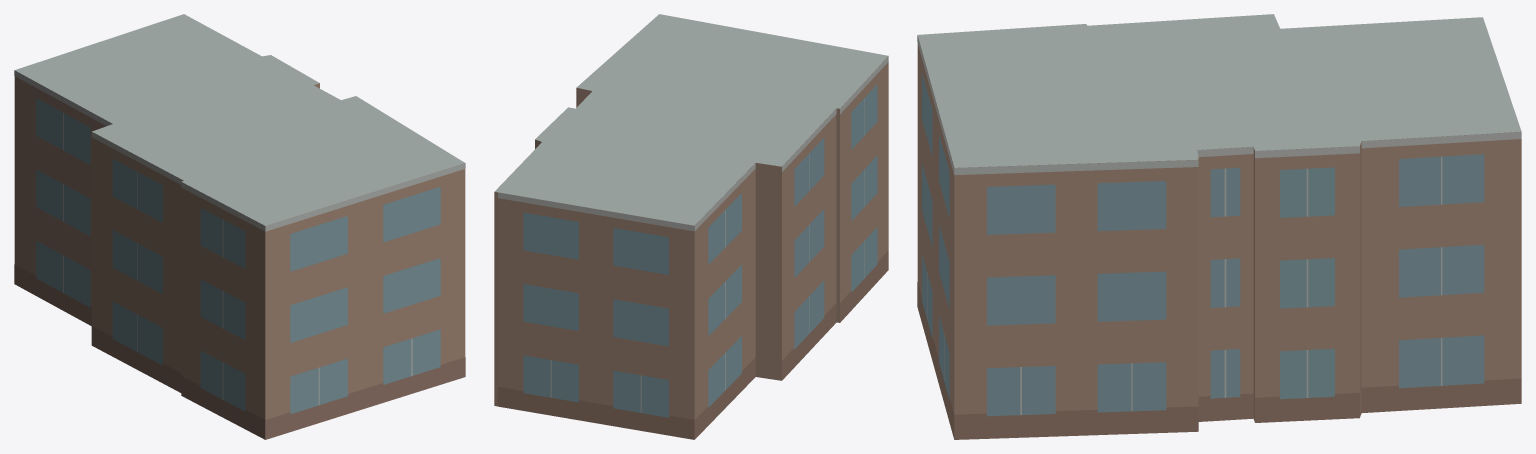
File: survey-upis-32719579.glb
3 renders of one model, left to right at view 1: azimuth 30°, elevation 25°; view 2: azimuth 150°, elevation 25°; view 3: azimuth 270°, elevation 25°, orthographic. The views are drawn at different scales.
Visible parts, largest first — view 1: survey-upis-32719579.tmp; view 2: survey-upis-32719579.tmp; view 3: survey-upis-32719579.tmp.
Boxes of the visible parts, left/top/right/bottom form: survey-upis-32719579.tmp: left=14, top=14, right=465, bottom=439; survey-upis-32719579.tmp: left=494, top=14, right=888, bottom=439; survey-upis-32719579.tmp: left=917, top=14, right=1521, bottom=439.
Bounding box in the file's own units: 11.11 × 9.15 × 18.43.
